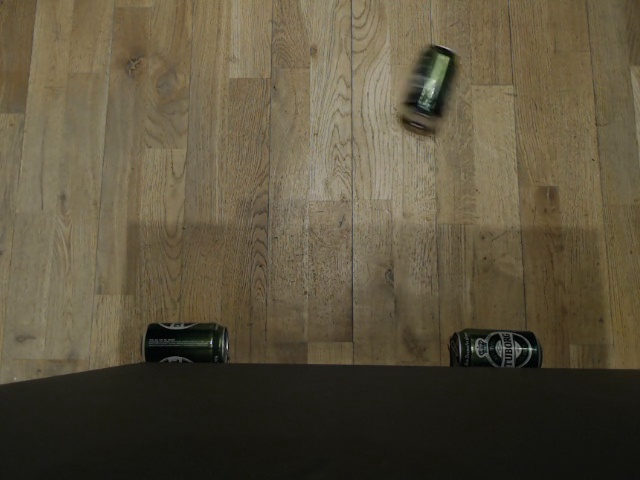beer: (398, 44, 459, 132), (446, 326, 544, 369), (141, 319, 231, 363)
